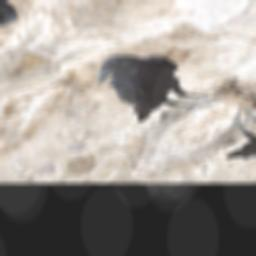Crow: (63, 42, 235, 134)
